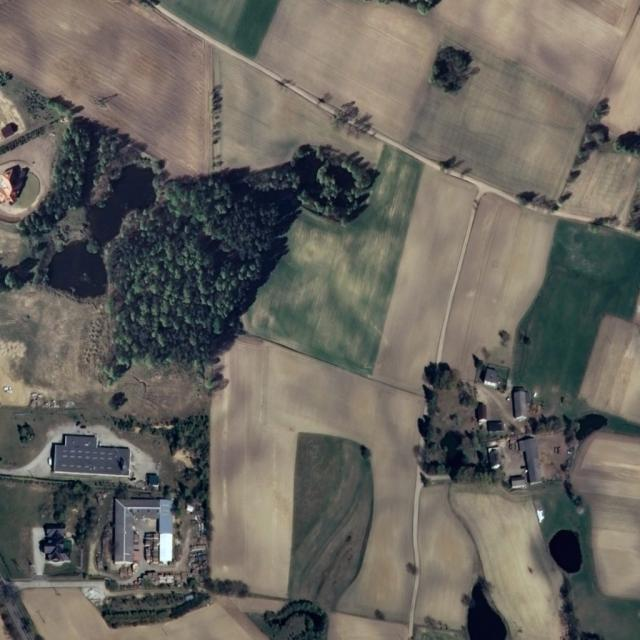agricultural_land: (149, 50, 437, 375), (200, 334, 427, 621), (433, 190, 562, 392), (443, 459, 586, 640), (370, 165, 480, 396), (415, 483, 482, 630), (561, 136, 640, 230)
building: (114, 498, 174, 566)
dryland: (370, 165, 480, 396), (328, 612, 408, 640), (546, 528, 584, 576)
greenland: (40, 67, 390, 418), (3, 110, 380, 408), (261, 430, 385, 640), (527, 467, 640, 640), (396, 353, 500, 499), (0, 79, 62, 221), (557, 94, 624, 213), (0, 480, 54, 579), (99, 588, 211, 629), (47, 241, 108, 298), (467, 581, 505, 639), (546, 528, 584, 576), (0, 255, 44, 294), (44, 86, 85, 126), (211, 84, 224, 171), (614, 131, 640, 154), (415, 629, 464, 639), (448, 411, 463, 425)
